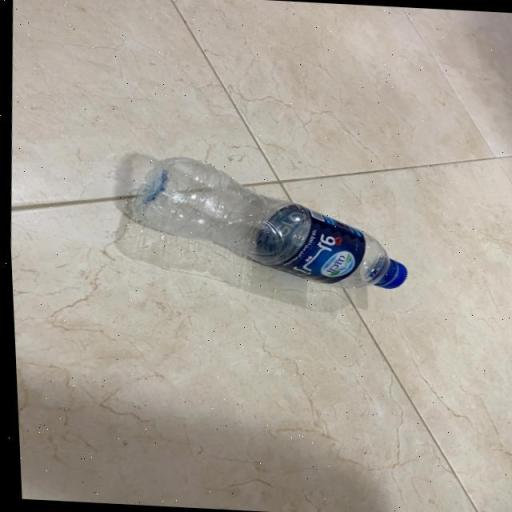plastic: (123, 151, 417, 299)
